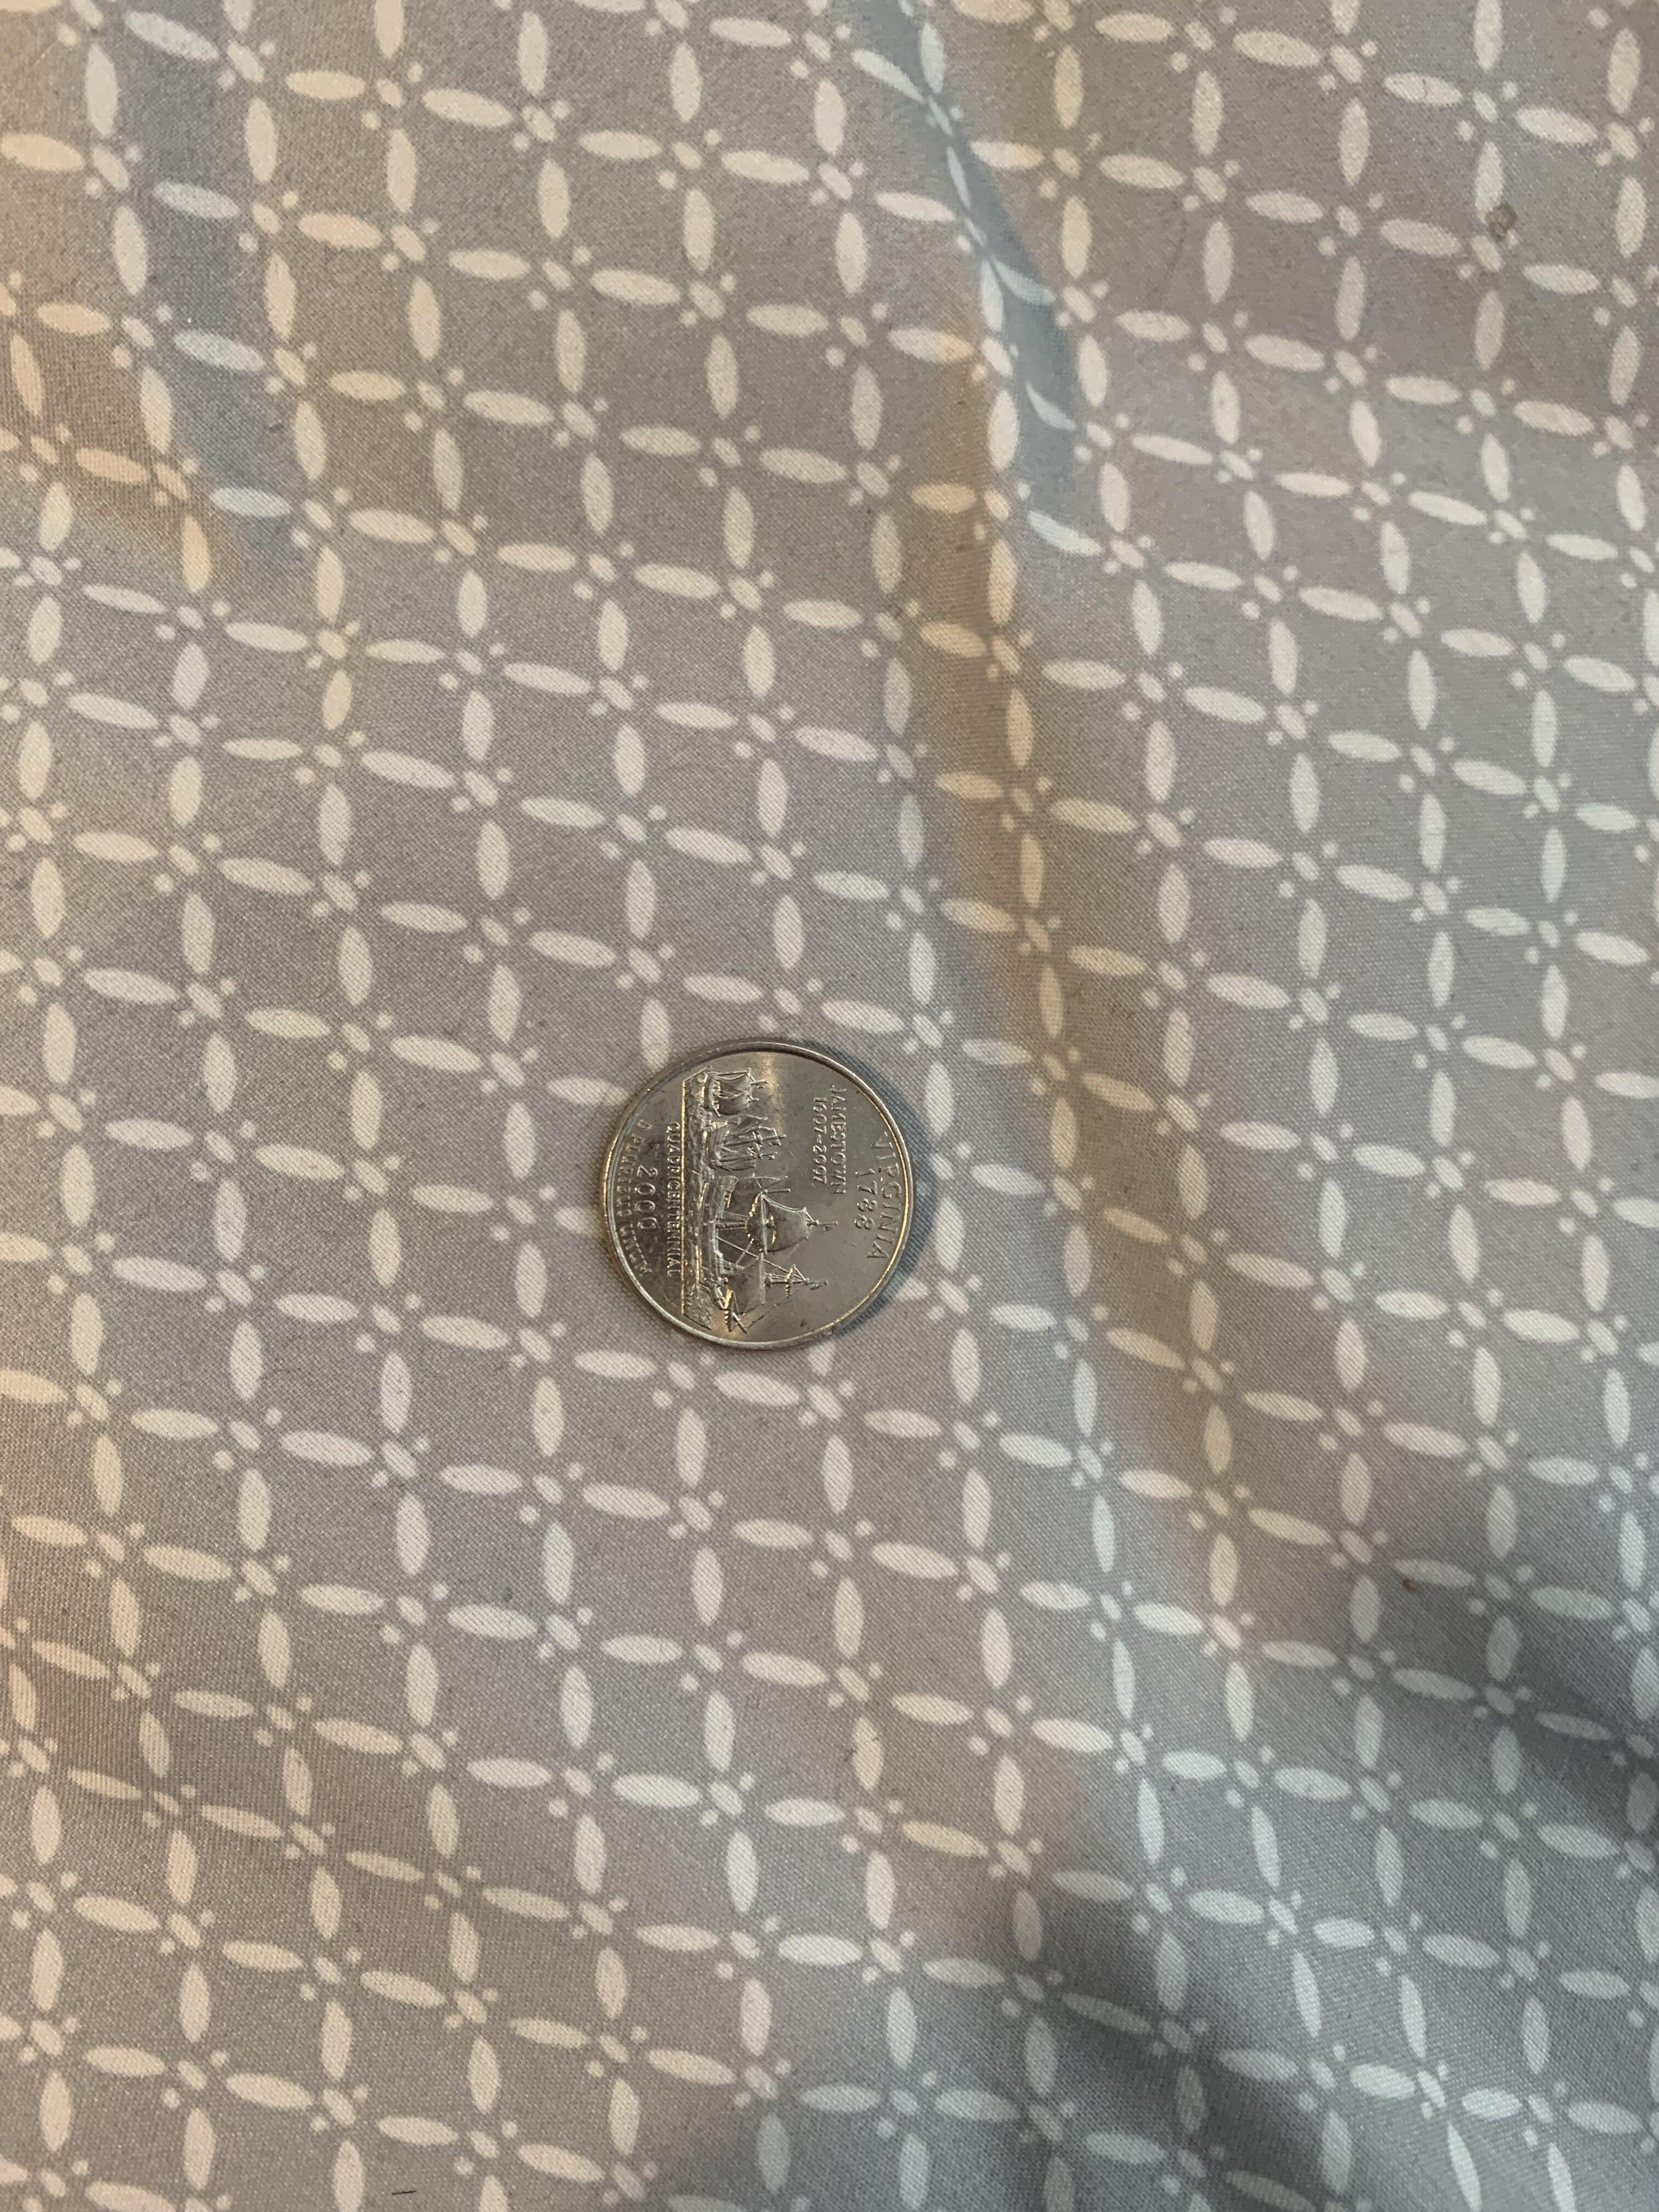Quarter: (559, 1003, 951, 1385)
